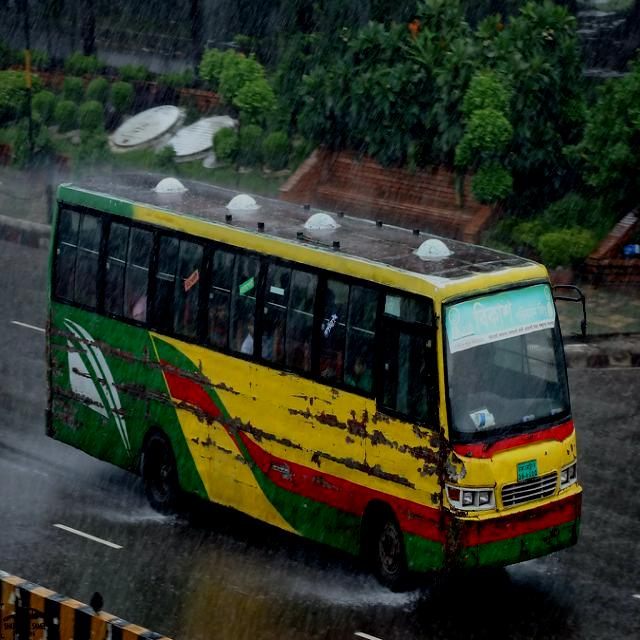bus: (45, 166, 588, 595)
